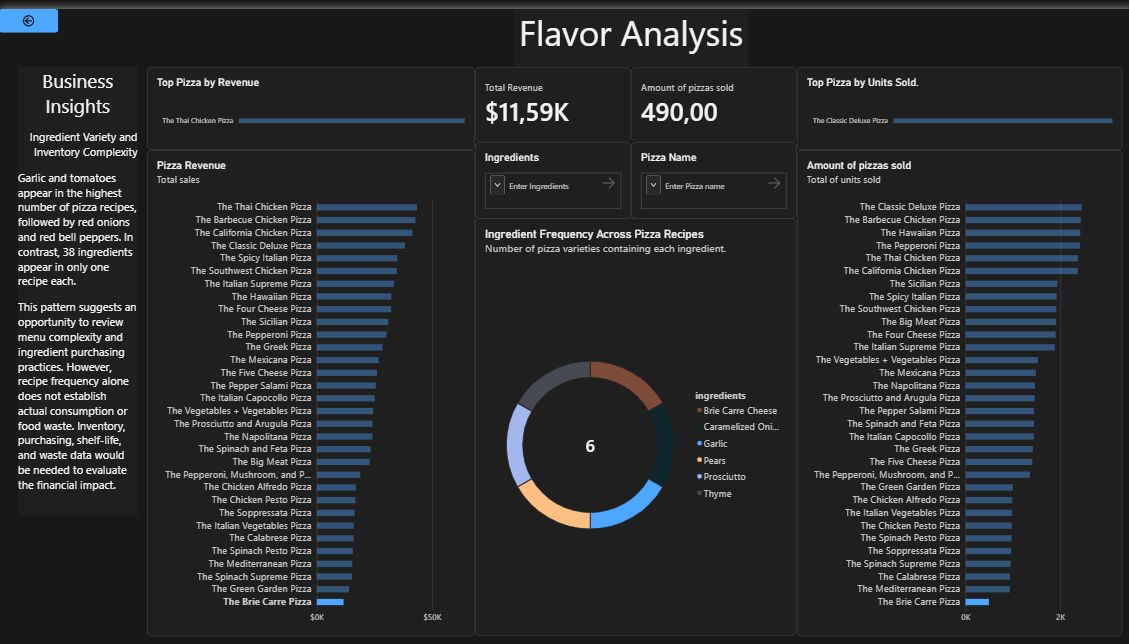

What the dashboard file says about the page in this screenshot:
{"tool":"powerbi","page":{"name":"Flavor_Analysis","canvas":[1920,1080],"ordinal":1},"visuals":[{"type":"clusteredBarChart","title":"Pizza Revenue","fields":{"Category":["Pizza_Revenue_By_Flavor.name"],"Y":["order_details.Total Sales"]},"box":[250,238,554,822],"z":0},{"type":"textbox","box":[870,0,396,98],"z":1000},{"type":"hundredPercentStackedBarChart","title":"Top Pizza by Revenue","fields":{"Category":["Pizza_Revenue_By_Flavor.name"],"Y":["order_details.Total Sales"]},"box":[250,98,554,140],"z":2000},{"type":"hundredPercentStackedBarChart","title":"Top Pizza by Units Sold.","fields":{"Category":["Pizza_Revenue_By_Flavor.name"],"Y":["Sum(Pizza_Revenue_By_Flavor.total_revenue)"]},"box":[1348,98,550,140],"z":3000},{"type":"donutChart","title":"Ingredient Frequency Across Pizza Recipes","fields":{"Category":["Pizza_Ingredients_Split.ingredients"],"Y":["CountNonNull(Pizza_Ingredients_Split.ingredients)"]},"box":[803.8,353.8,542.5,706.2],"z":4000},{"type":"clusteredBarChart","title":"Amount of pizzas sold","fields":{"Category":["Pizza_Revenue_By_Flavor.name"],"Y":["Sum(Pizza_Revenue_By_Flavor.total_quantity)"]},"box":[1348,238,550,822],"z":5000},{"type":"textSlicer","title":"Pizza Name","fields":{"Values":["Pizza_Revenue_By_Flavor.name"]},"box":[1068,224,280,130],"z":6000},{"type":"actionButton","box":[0,0,100,40],"z":7000},{"type":"cardVisual","fields":{"Data":["Sum(Pizza_Revenue_By_Flavor.total_revenue)"]},"box":[804,98,264,126],"z":8000},{"type":"cardVisual","fields":{"Data":["Sum(Pizza_Revenue_By_Flavor.total_quantity)"]},"box":[1068,98,280,126],"z":9000},{"type":"textbox","box":[32,98,202,758],"z":10000},{"type":"textSlicer","fields":{"Values":["Pizza_Ingredients_Split.ingredients"]},"box":[804,224,264,130],"z":10001}]}

Visuals, with their boxes on the page's 1920x1080 design canvas (x1, y1, x2, y2). These are canvas units, not pixel positions in the 1129x644 screenshot, which may show the page scaled, cropped or inside an application window:
"Pizza Revenue" clusteredBarChart: pyautogui.locateOnScreen(250, 238, 804, 1060)
textbox: pyautogui.locateOnScreen(870, 0, 1266, 98)
"Top Pizza by Revenue" hundredPercentStackedBarChart: pyautogui.locateOnScreen(250, 98, 804, 238)
"Top Pizza by Units Sold." hundredPercentStackedBarChart: pyautogui.locateOnScreen(1348, 98, 1898, 238)
"Ingredient Frequency Across Pizza Recipes" donutChart: pyautogui.locateOnScreen(804, 354, 1346, 1060)
"Amount of pizzas sold" clusteredBarChart: pyautogui.locateOnScreen(1348, 238, 1898, 1060)
"Pizza Name" textSlicer: pyautogui.locateOnScreen(1068, 224, 1348, 354)
actionButton: pyautogui.locateOnScreen(0, 0, 100, 40)
cardVisual - Sum(Pizza_Revenue_By_Flavor.total_revenue): pyautogui.locateOnScreen(804, 98, 1068, 224)
cardVisual - Sum(Pizza_Revenue_By_Flavor.total_quantity): pyautogui.locateOnScreen(1068, 98, 1348, 224)
textbox: pyautogui.locateOnScreen(32, 98, 234, 856)
textSlicer - Pizza_Ingredients_Split.ingredients: pyautogui.locateOnScreen(804, 224, 1068, 354)
